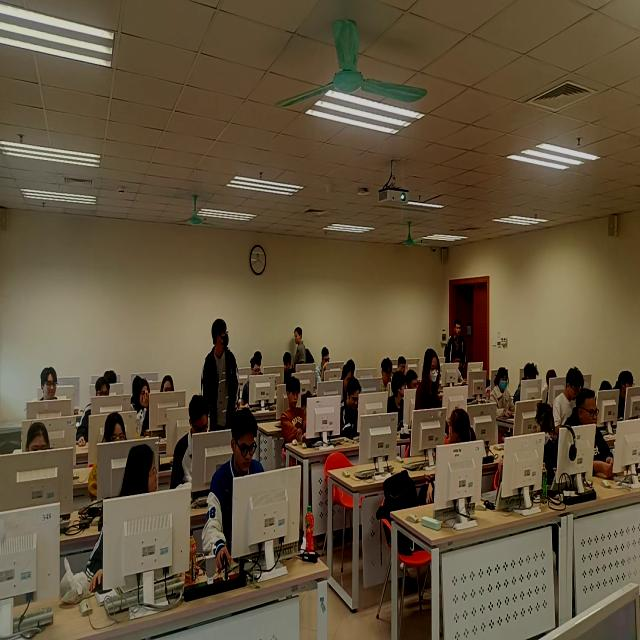raise_head: (276, 373, 319, 452), (128, 374, 161, 434), (158, 364, 186, 432), (377, 359, 398, 396)
stand: (205, 318, 240, 452), (415, 347, 447, 440), (444, 319, 468, 388), (294, 325, 311, 388)
using_computer: (206, 411, 280, 576), (561, 391, 631, 492), (523, 406, 567, 506), (91, 414, 138, 505), (19, 424, 67, 513), (282, 375, 320, 463), (486, 366, 533, 426), (80, 377, 117, 451), (338, 380, 374, 447), (239, 358, 274, 416), (611, 369, 640, 430), (553, 367, 584, 421), (514, 364, 547, 409), (452, 351, 476, 392), (317, 347, 337, 386)
